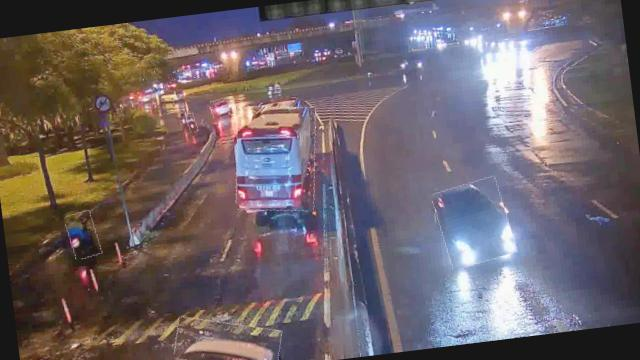Bike: (65, 210, 101, 260), (186, 112, 197, 133), (177, 109, 186, 128)
Bus: (226, 100, 324, 217)
Car: (432, 176, 514, 268), (171, 310, 284, 360), (209, 96, 236, 118)
